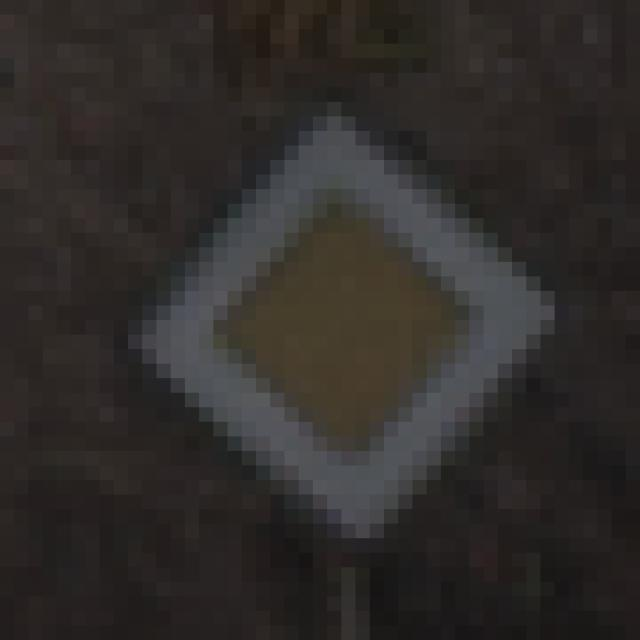Main Road: (86, 74, 570, 568)
